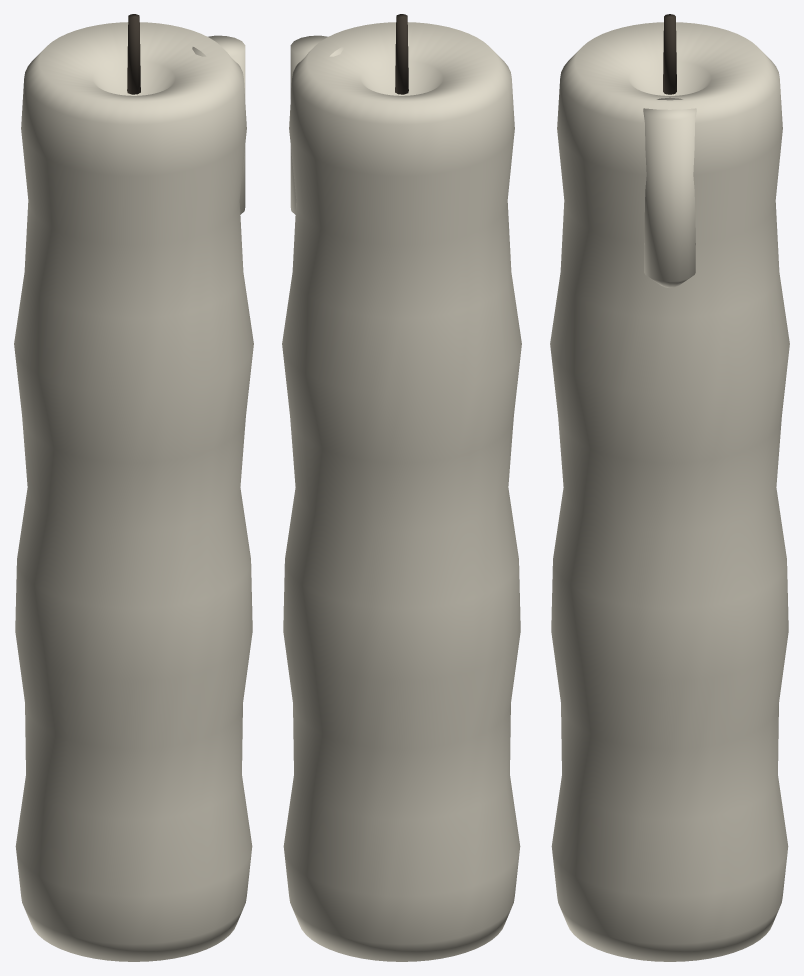
File: candle_taper_mid.glb
3 views of the same model, side by side, from view 1: azimuth 30°, elevation 25°; view 2: azimuth 150°, elevation 25°; view 3: azimuth 270°, elevation 25° (orthographic).
Visible parts, largest first — view 1: LOD0; view 2: LOD0; view 3: LOD0.
Part boxes in pixels (<box>): LOD0: <box>14,14,253,961</box>; LOD0: <box>282,14,521,961</box>; LOD0: <box>550,14,789,961</box>.
Size of what is drawn, in the model's own units: 0.0412 by 0.1675 by 0.0404.
